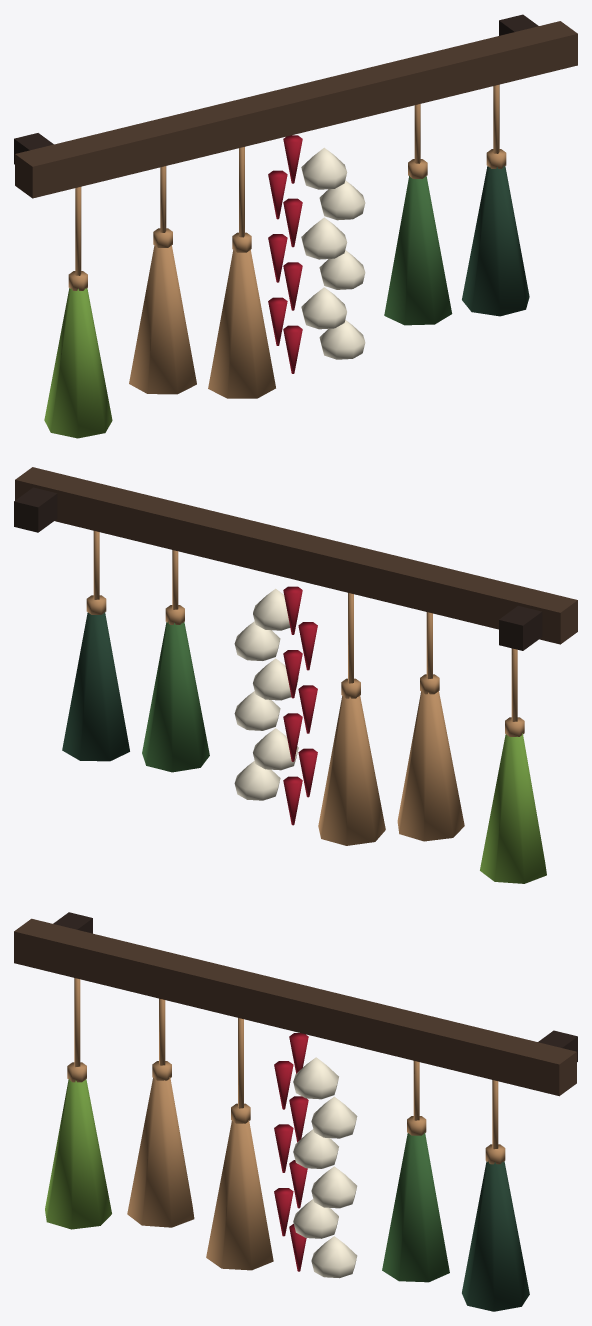
Rendered from drying_herbs.glb.
3 views of the same model, one above another, from view 1: azimuth 30°, elevation 25°; view 2: azimuth 150°, elevation 25°; view 3: azimuth 330°, elevation 25° (orthographic).
Visible parts, largest first — view 1: drying_herbs; view 2: drying_herbs; view 3: drying_herbs.
Part boxes in pixels (bbox=[...]): drying_herbs: bbox=[14, 14, 577, 438]; drying_herbs: bbox=[14, 467, 577, 883]; drying_herbs: bbox=[14, 912, 577, 1311].
Bounding box in the file's own units: 0.9 × 0.445 × 0.13.
